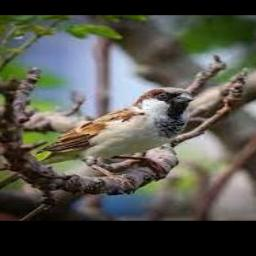Sparrow: (37, 87, 194, 185)
